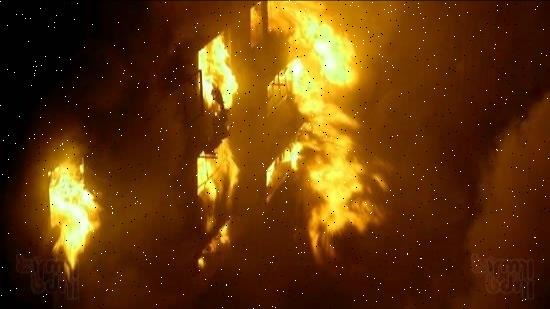fire: (34, 0, 400, 295)
